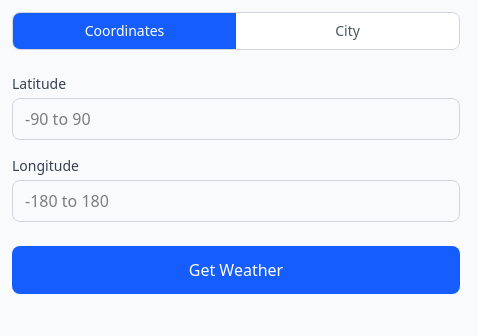
it: WeatherForm › shows validation errors on empty submit in city mode
Click the button "City": (348, 31) [236, 13, 459, 49]
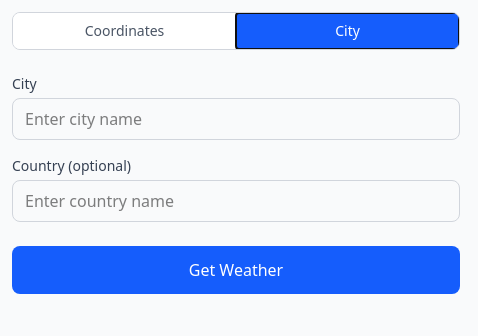
Click the button "Get Weather": (236, 270) [12, 246, 460, 294]
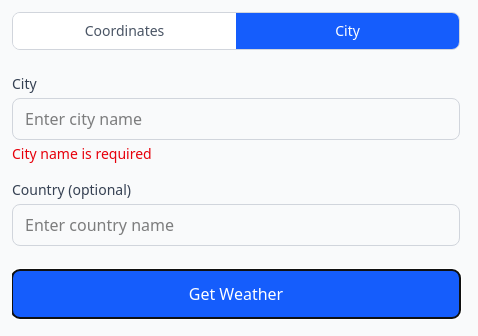
Expected: the text "City name is required" is shown, [12, 144, 152, 163]
